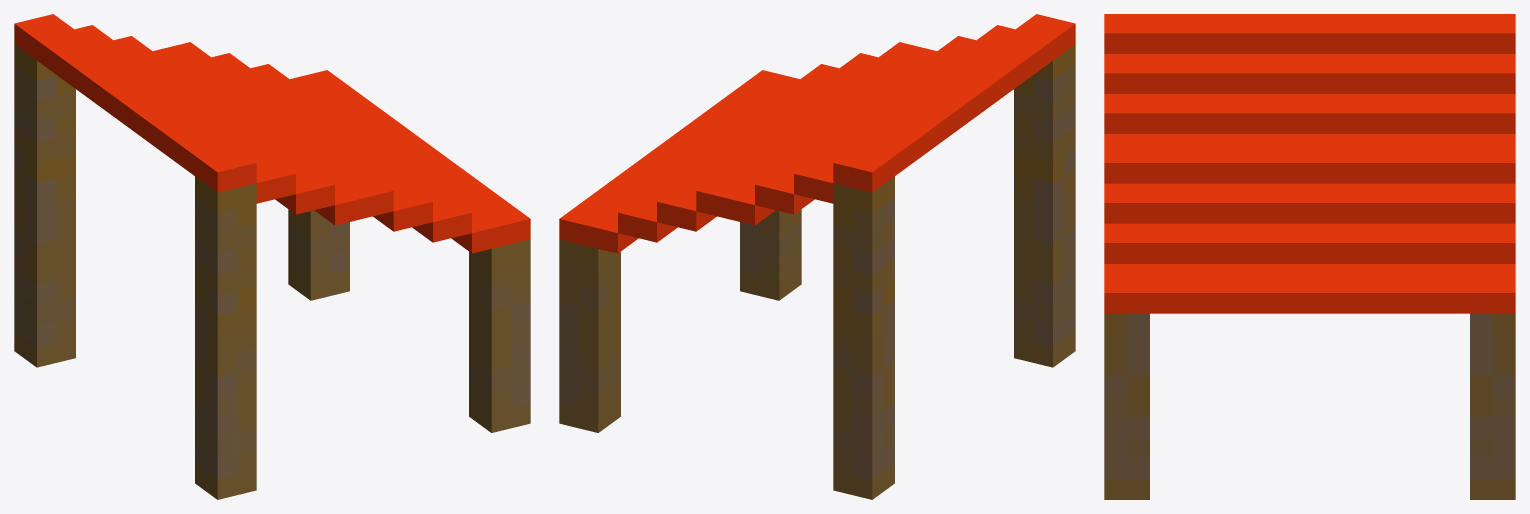
Rendered from halftent.gltf.
3 renders of one model, left to right at view 1: azimuth 30°, elevation 25°; view 2: azimuth 150°, elevation 25°; view 3: azimuth 270°, elevation 25°, orthographic.
Parts seen in each view (by area): view 1: Layer.1; view 2: Layer.1; view 3: Layer.1.
Part boxes in pixels (x1,y1,x2,y2): Layer.1: [14, 14, 530, 499]; Layer.1: [559, 14, 1075, 499]; Layer.1: [1104, 14, 1515, 499].
Bounding box in the file's own units: 16 × 16 × 18.
Materials: 1 (1 with a texture image).
